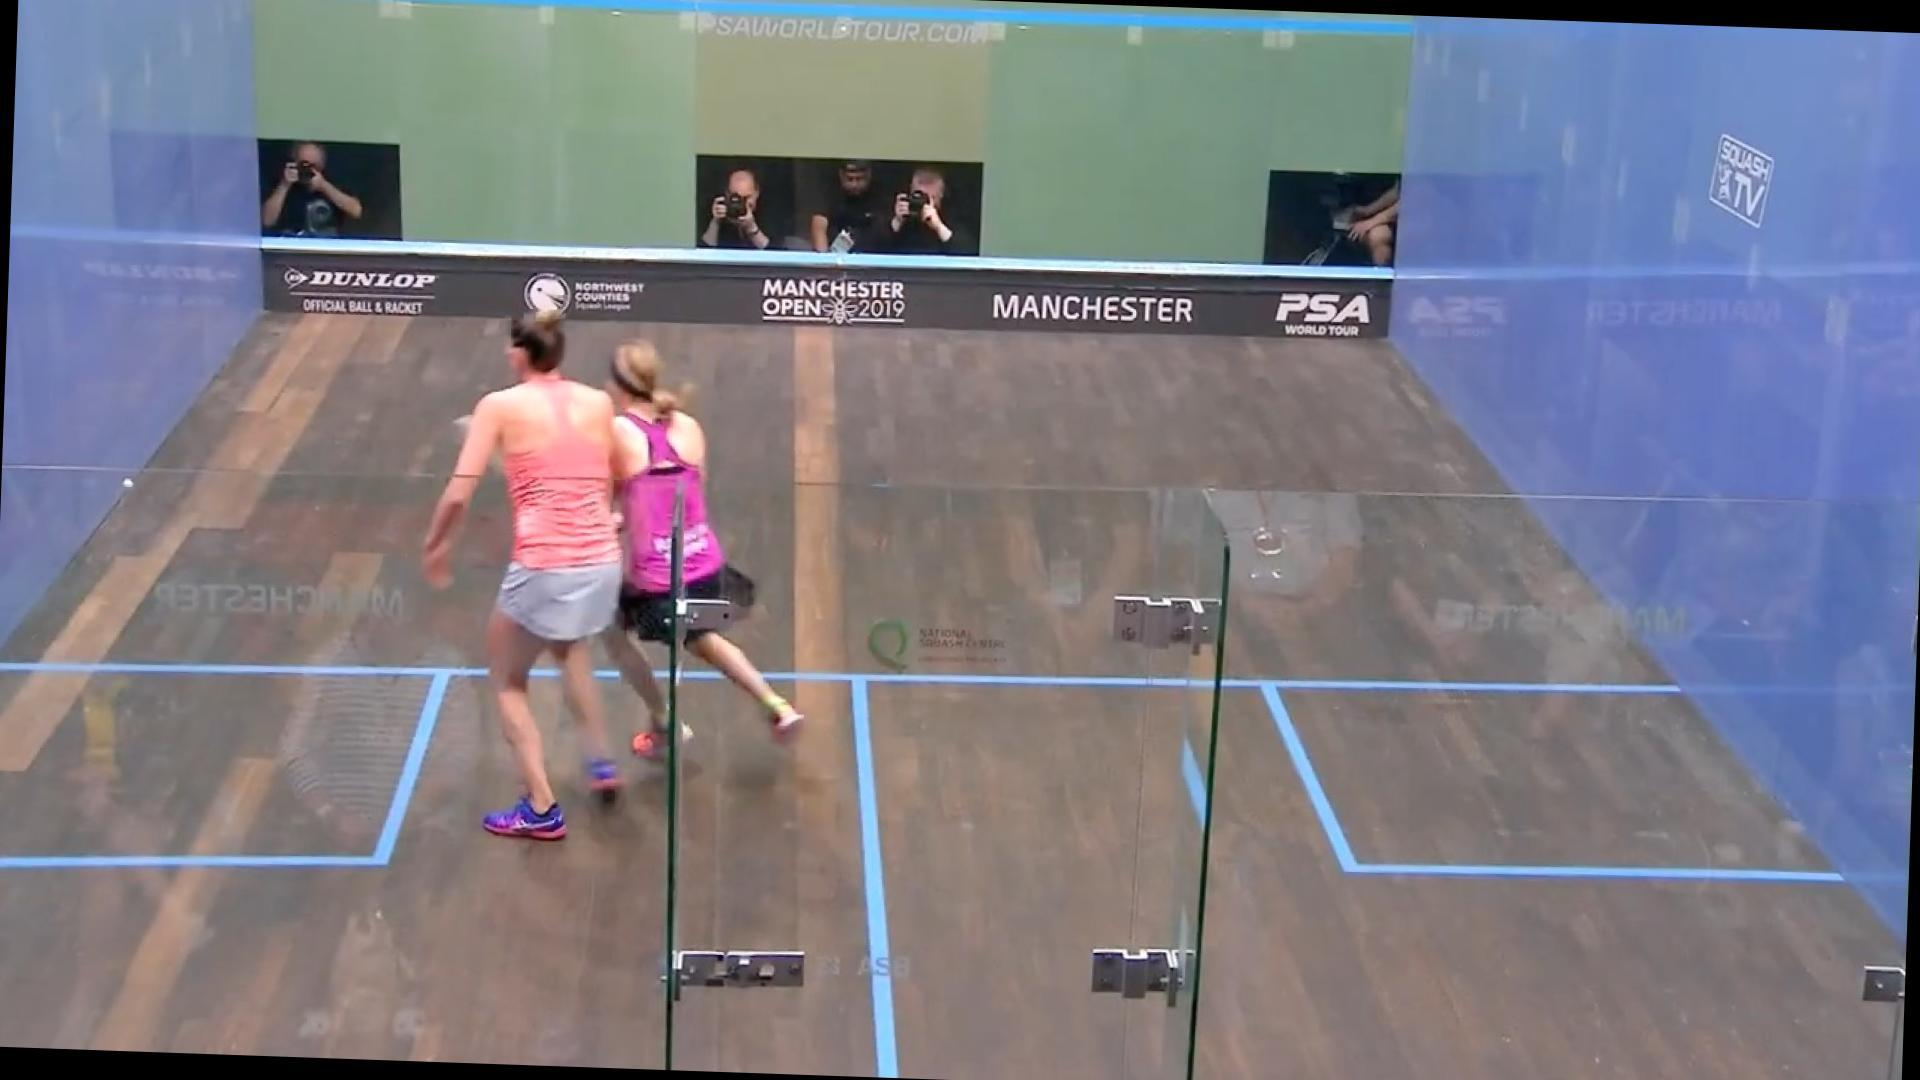Squash-Ball: (98, 452, 160, 514)
